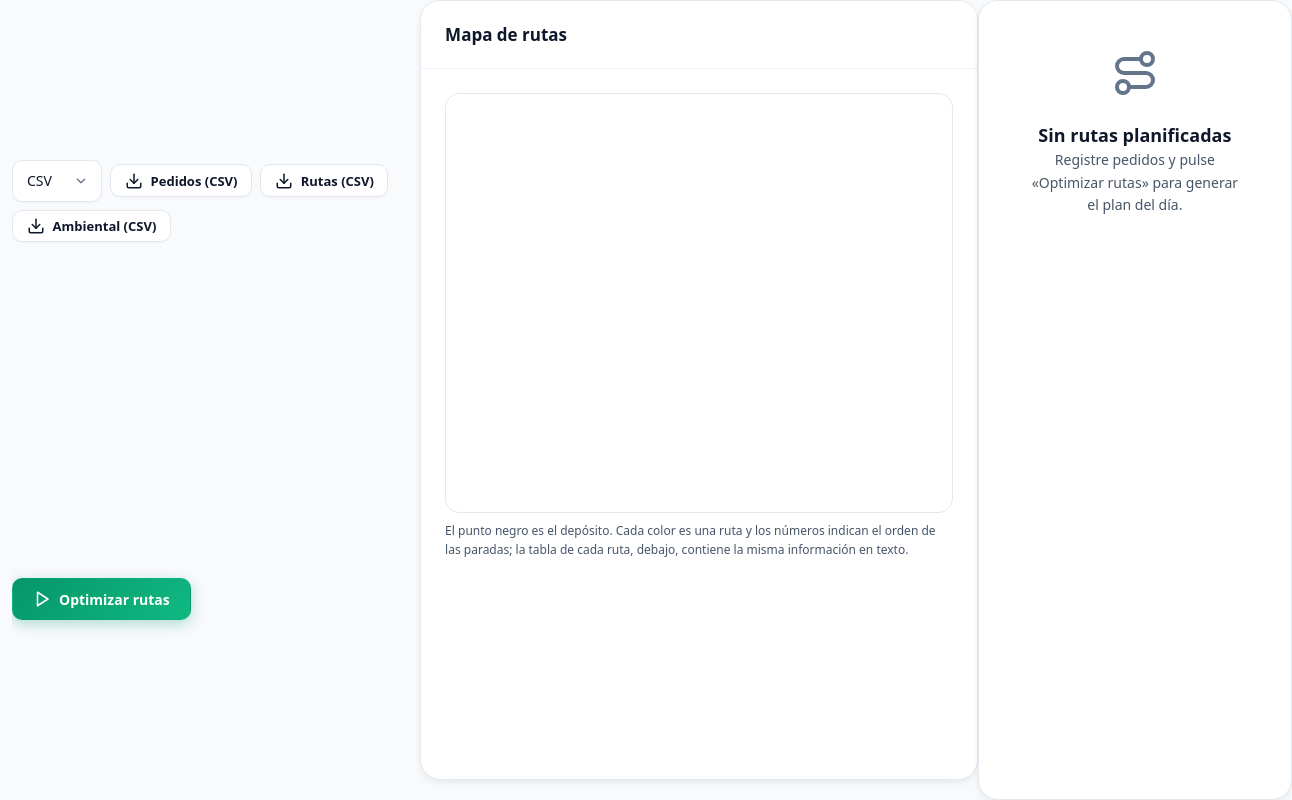
Test: RutasPage › informa un error de conexión si la API no responde
This screenshot has width=1292, height=800.
Click the button "Optimizar rutas" at (101,599), box [12,578,191,620]
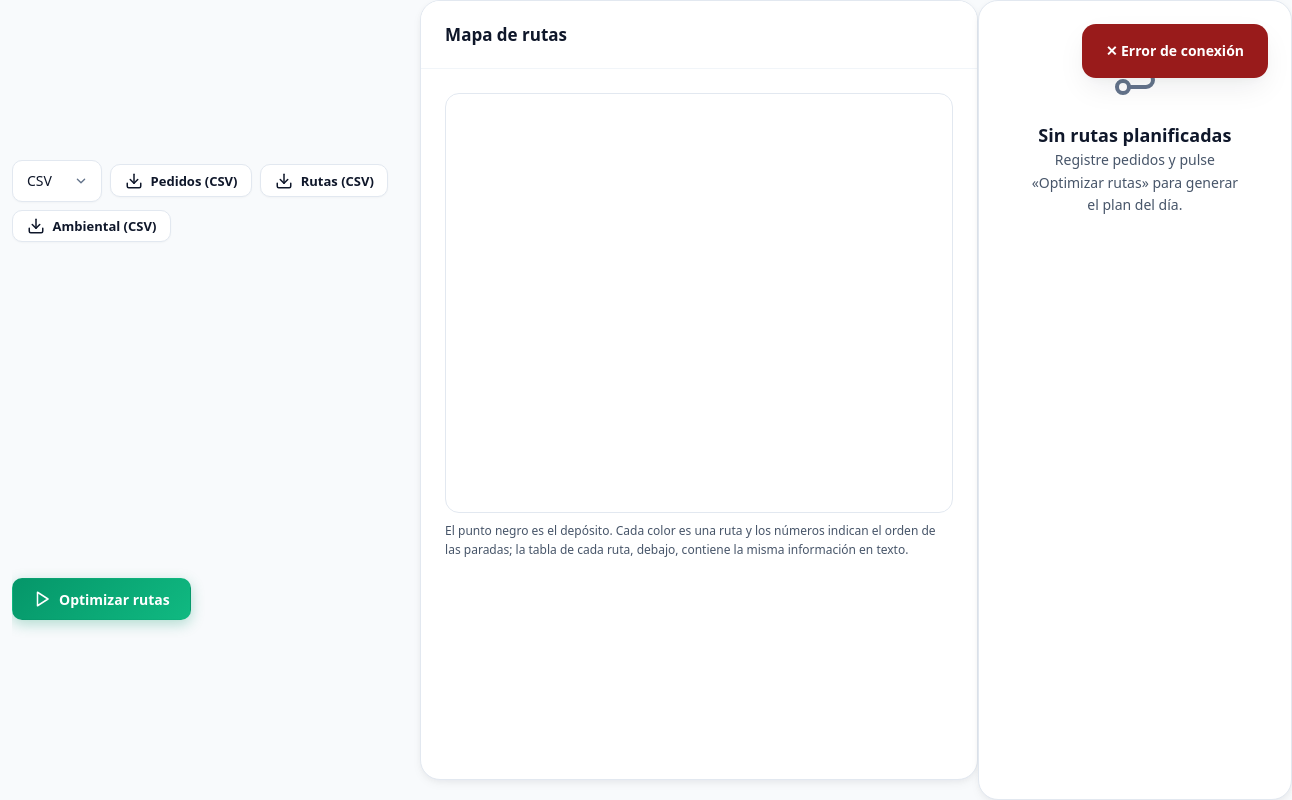
Expected: the text "✕ Error de conexión" is shown, [1082,24,1268,78]
